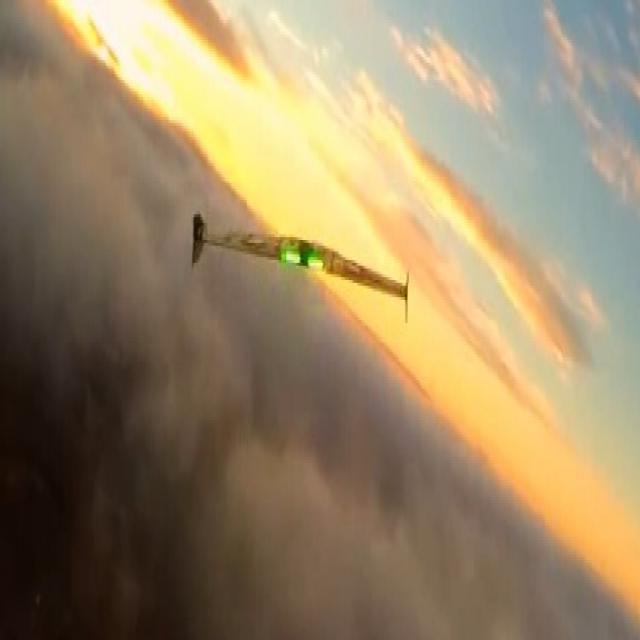UAV: (156, 220, 414, 320)
